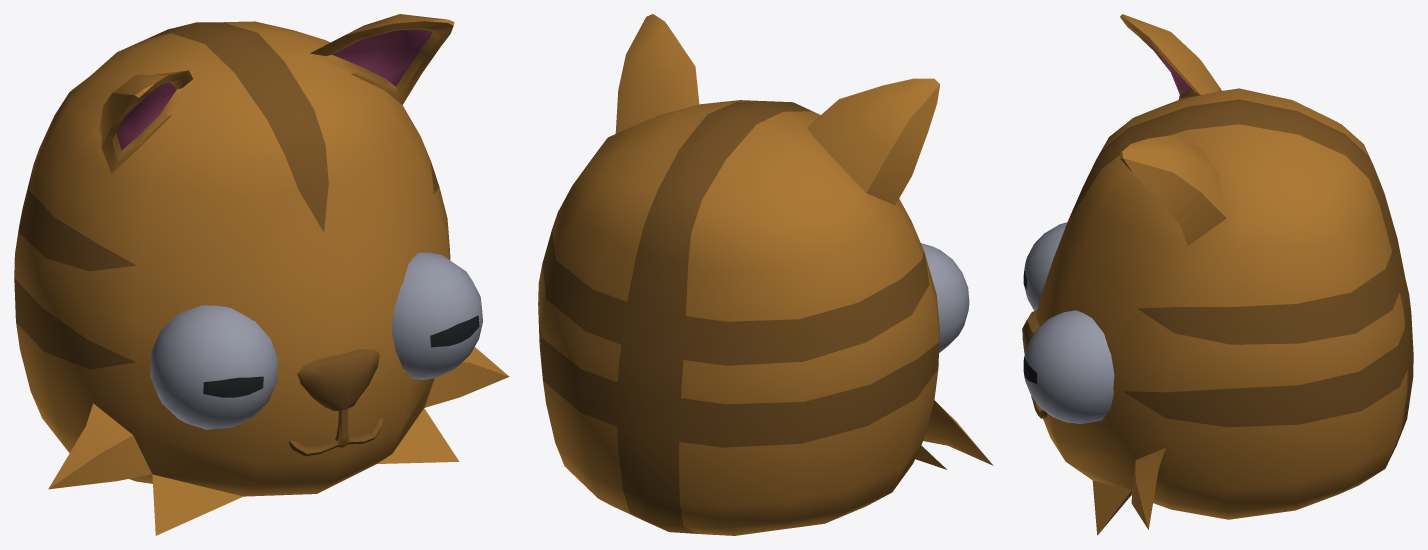
File: Cat.obj
3 renders of one model, left to right at view 1: azimuth 30°, elevation 25°; view 2: azimuth 150°, elevation 25°; view 3: azimuth 270°, elevation 25°, orthographic. The views are drawn at different scales.
Parts seen in each view (by area): view 1: Cat_Blob_Cube.187; view 2: Cat_Blob_Cube.187; view 3: Cat_Blob_Cube.187.
Boxes of the visible parts, box(x1,y1,x2,y2) form: Cat_Blob_Cube.187: box(14, 14, 509, 535); Cat_Blob_Cube.187: box(538, 14, 993, 535); Cat_Blob_Cube.187: box(1022, 14, 1413, 535).
Bounding box in the file's own units: 2.1 × 1.98 × 1.72.
